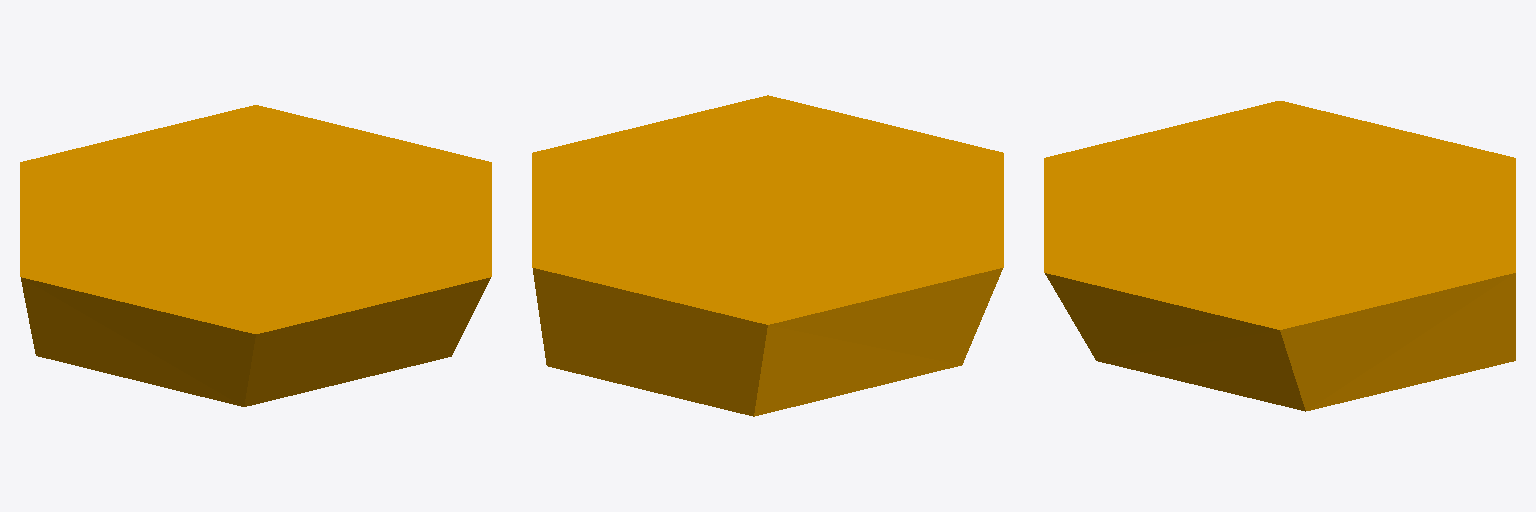
The robot description file, URDF, robot "bananaSlice":
<?xml version="1.0"?>
<robot name="bananaSlice">
  <link name="slice">
    <inertial>
        <origin rpy="0 0 0" xyz="0 0 0"/>
        <mass value="0.03"/>
        <inertia ixx="4.4e-5" ixy="0" ixz="0" iyy="0" iyz="0" izz="4.4e-5"/>
    </inertial>
    <visual>
      <geometry>
        <mesh filename="bananaSlice.obj"/>
      </geometry>
    </visual>
    <collision>
      <geometry>
        <mesh filename="bananaSlice.obj"/>
      </geometry>
      <surface>
           <bounce restitution_coefficient = "0.1"/>
      </surface>
    </collision>
  </link>
</robot>

--- Facts derived from the render (not from the file) ---
Views: 3 orthographic renders of the robot side by side, from view 1: azimuth 30°, elevation 25°; view 2: azimuth 150°, elevation 25°; view 3: azimuth 270°, elevation 25°.
Robot: bananaSlice — 1 links, 0 joints (none); root link slice; default pose: all joints at 0.
Visible links, largest first — view 1: slice; view 2: slice; view 3: slice.
Boxes of the visible links, x1,y1,x2,y2 form: slice: [20, 105, 491, 406]; slice: [532, 95, 1003, 416]; slice: [1044, 101, 1515, 411].
Bounding box of the posed robot: 0.1376 × 0.1192 × 0.0266 m (x, y, z).
1 mesh visuals loaded from 1 distinct referenced files (1 OBJ).
